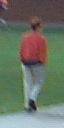person: (17, 19, 48, 110)
